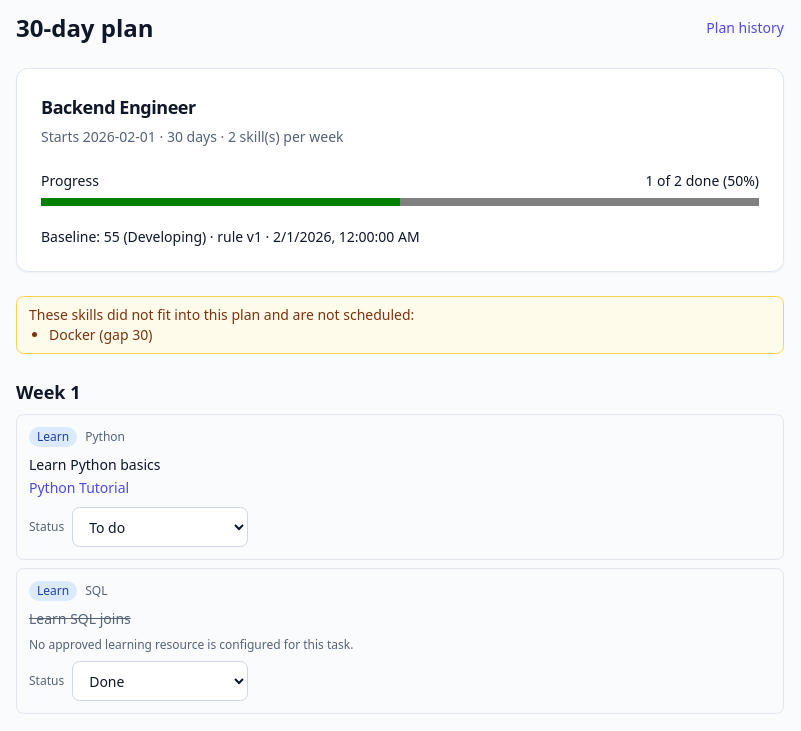
Scenario: PlanPage › updates status optimistically and keeps the server result
The image size is (801, 731).
Select "Done" in the dropdown named "Status for Learn Python basics" at (160, 527), box [72,507,248,547]
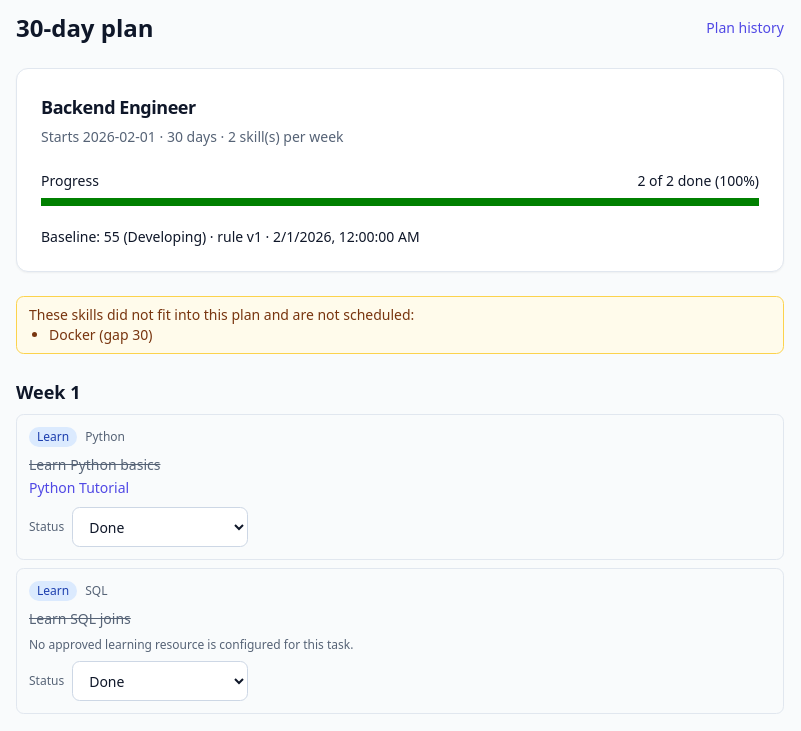
Expected: the text "2 of 2 done (100%)" is shown, [637,171,759,191]
